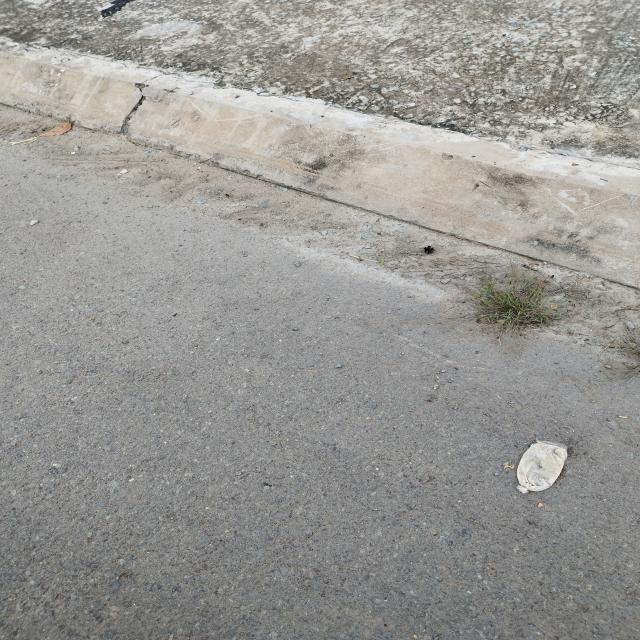bag: (516, 437, 568, 494)
